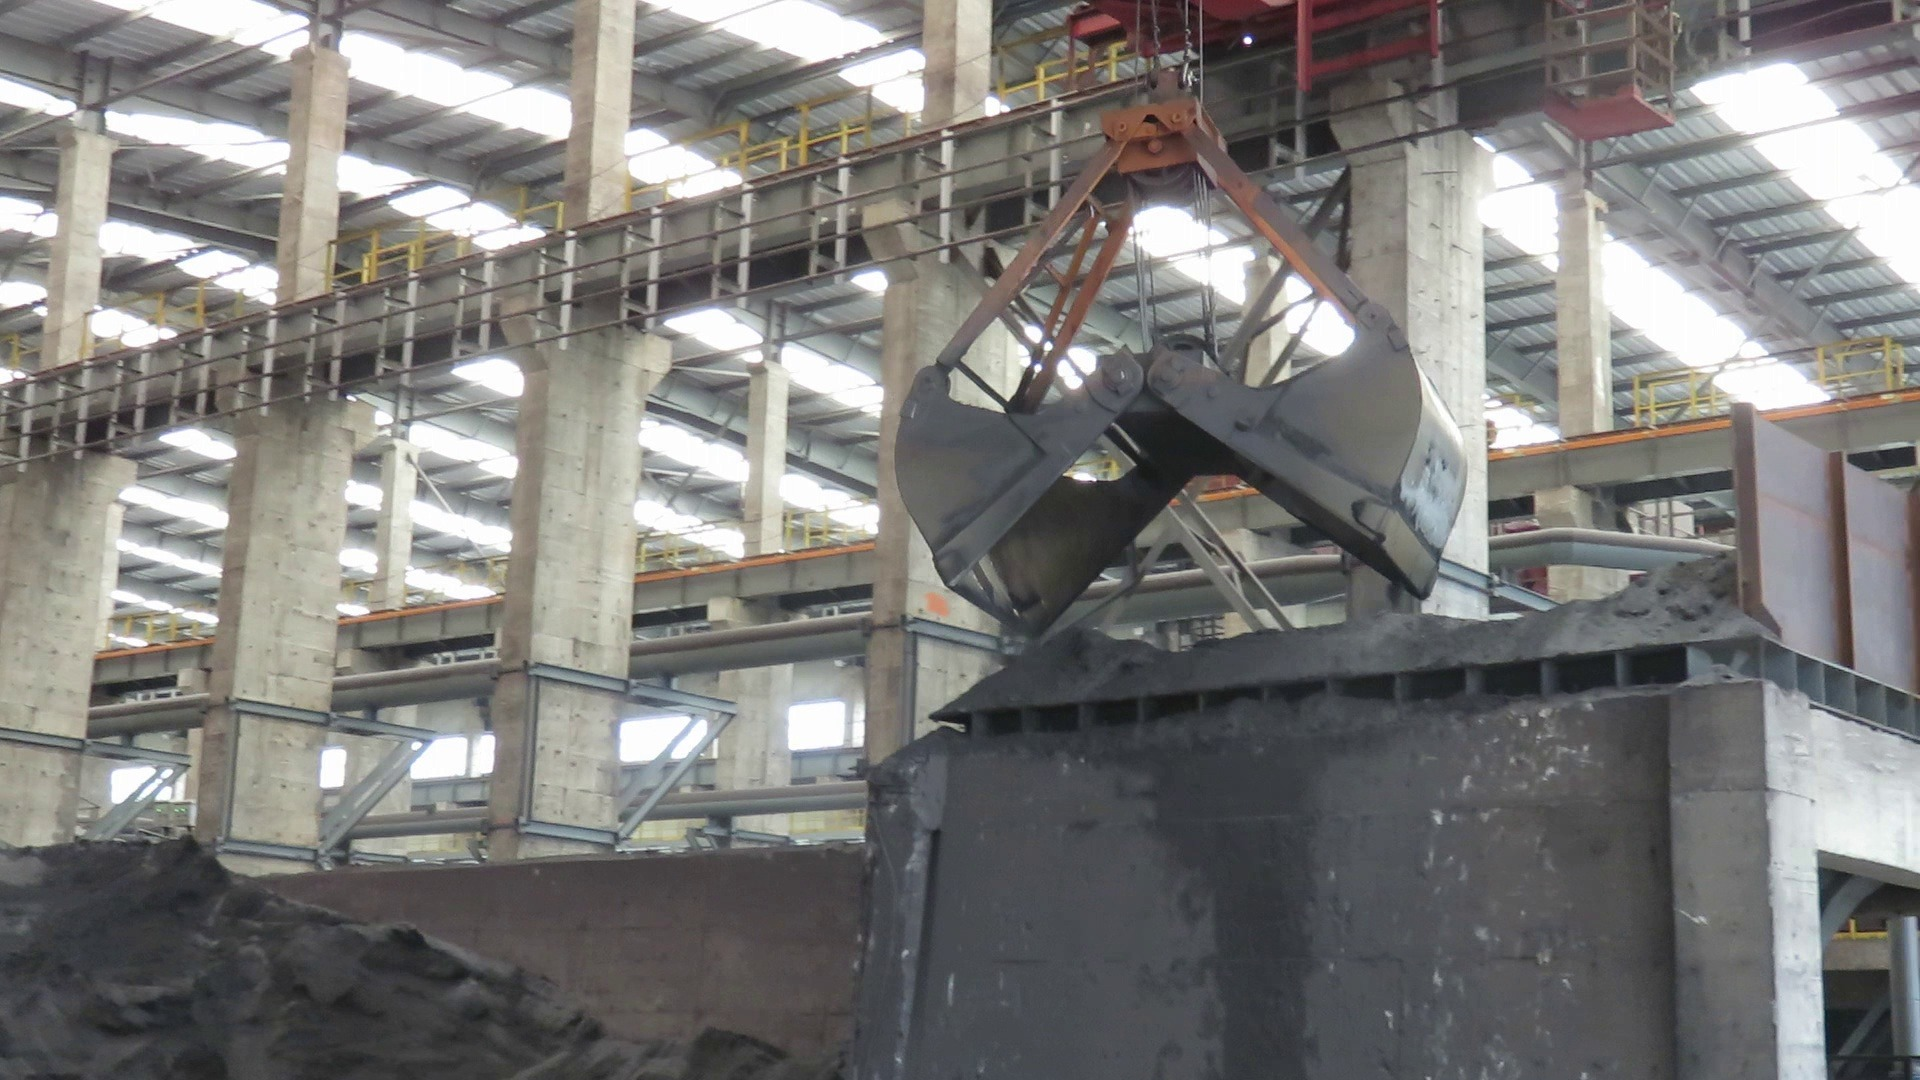grab: (889, 69, 1476, 626)
